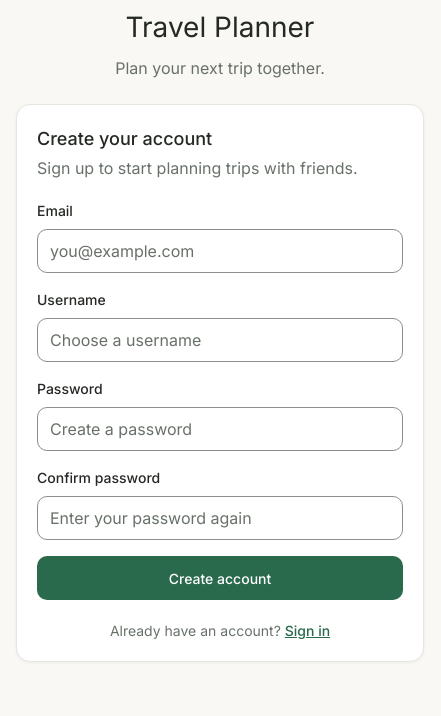
it: shows an error when the registration email already exists
expect the heading "Create your account" is shown: met, box x1=37 y1=128 x2=212 y2=149
Type "test-user@example.com" into the field labelled "Email".
click(220, 251); type("test-user@example.com")  # box x1=37 y1=229 x2=403 y2=273
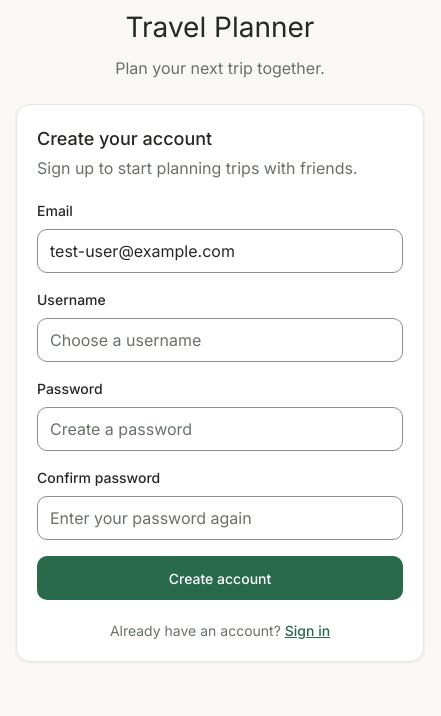
Type "test-user" into the field labelled "Username".
click(220, 340); type("test-user")  # box x1=37 y1=318 x2=403 y2=362
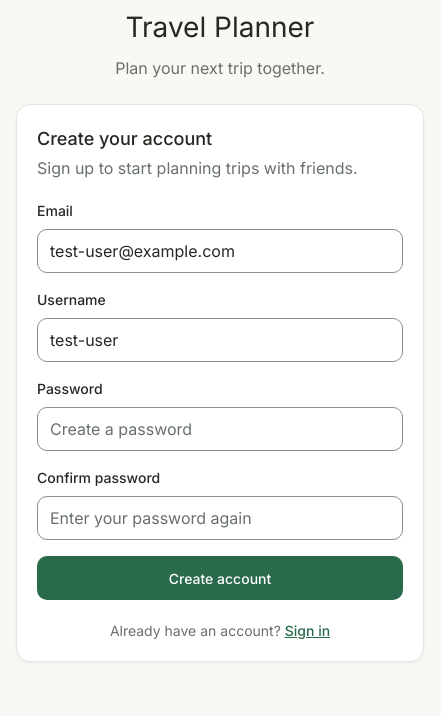
Type "example-password" into the password field labelled "Password".
click(220, 429); type("example-password")  # box x1=37 y1=407 x2=403 y2=451
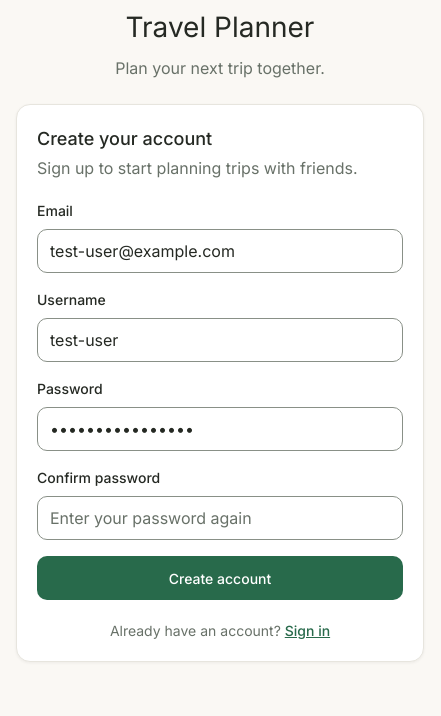
Type "example-password" into the password field labelled "Confirm password".
click(220, 518); type("example-password")  # box x1=37 y1=496 x2=403 y2=540
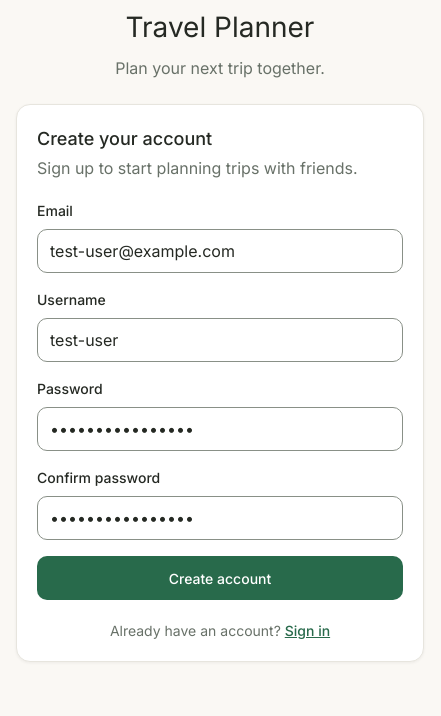
Click the button "Create account".
click(220, 578)  # box x1=37 y1=556 x2=403 y2=600
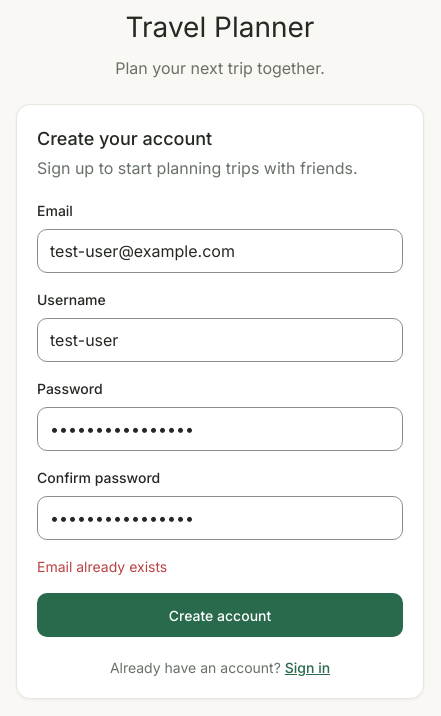
expect the button "Create account" is enabled: met, box x1=37 y1=593 x2=403 y2=637
expect the message reads "Email already exists": met, box x1=37 y1=558 x2=167 y2=575
